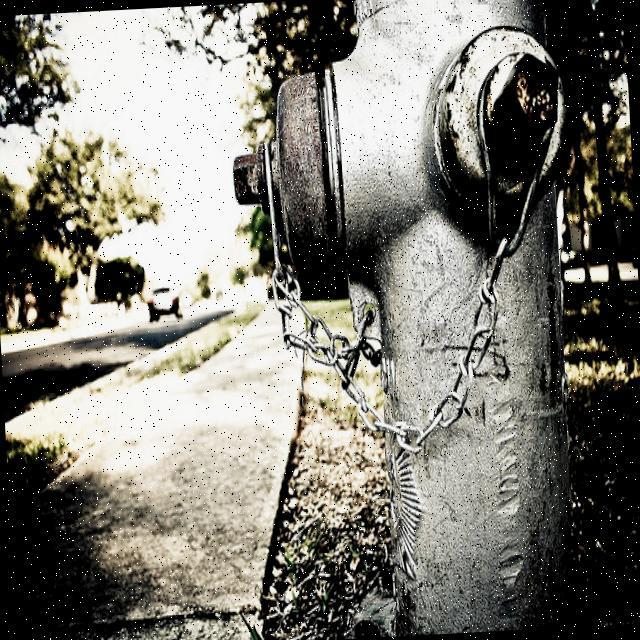fire_hydrant: (227, 0, 583, 625)
